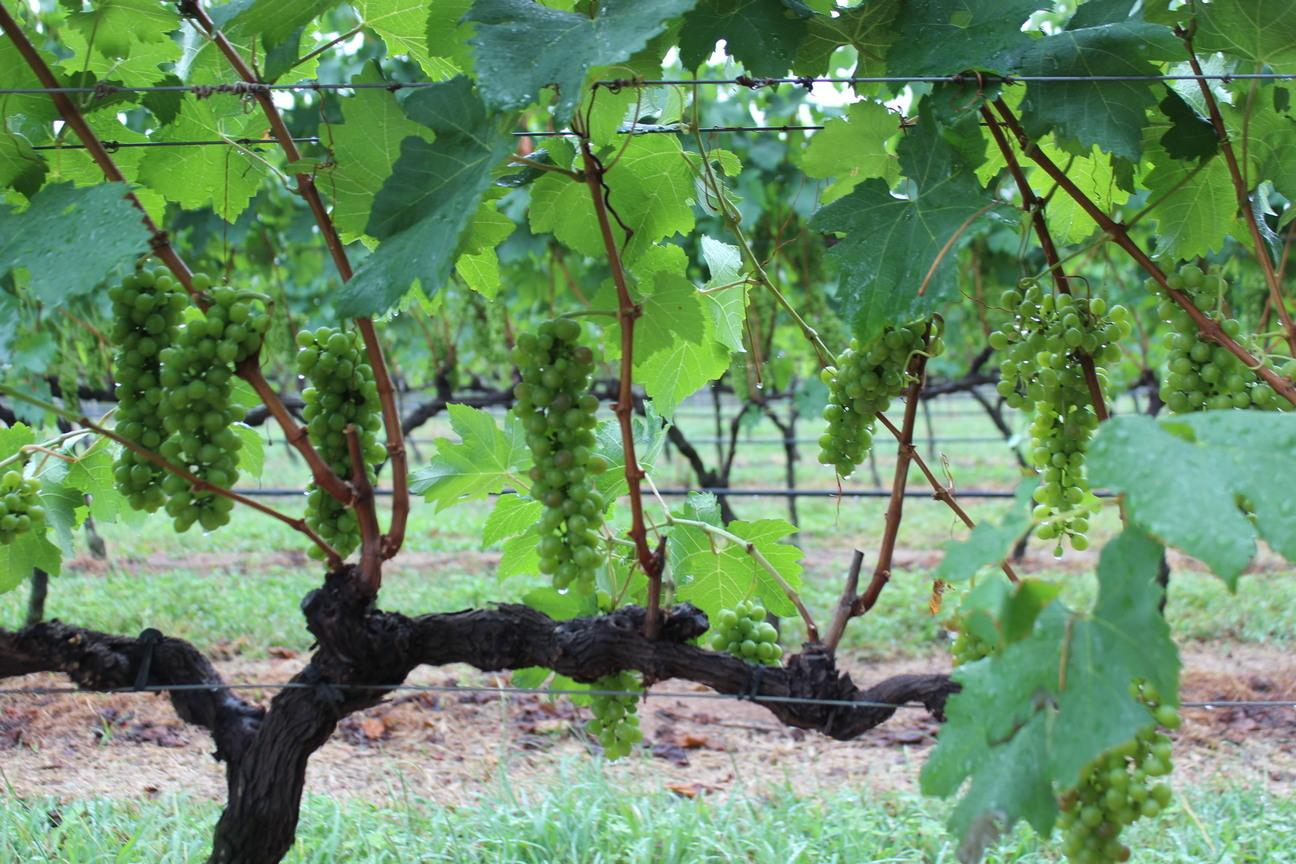leaf: (923, 530, 1177, 858), (810, 99, 995, 341), (335, 76, 511, 314), (1086, 410, 1295, 587), (467, 0, 696, 122), (0, 183, 147, 306), (321, 87, 432, 240), (410, 403, 529, 508), (671, 518, 801, 614), (886, 0, 1036, 74), (1021, 79, 1157, 159), (606, 135, 692, 260), (1142, 148, 1235, 259), (932, 481, 1035, 580), (1007, 21, 1181, 78), (801, 99, 897, 202), (138, 145, 265, 221), (679, 0, 807, 75), (635, 318, 729, 418), (351, 0, 461, 79), (1220, 86, 1295, 198), (792, 0, 902, 75), (1194, 0, 1295, 71), (1040, 141, 1127, 211), (531, 174, 604, 256), (701, 234, 747, 352), (225, 0, 338, 47), (63, 437, 122, 518), (37, 459, 87, 554), (0, 37, 56, 121), (155, 98, 262, 140), (1033, 171, 1096, 241), (0, 531, 60, 592), (480, 492, 542, 545), (0, 130, 47, 197), (593, 419, 627, 499), (630, 400, 666, 472), (523, 585, 596, 619), (498, 527, 537, 581), (231, 422, 263, 480), (0, 422, 33, 459), (351, 62, 384, 82), (37, 51, 56, 64), (1234, 143, 1238, 151), (5, 468, 12, 469), (689, 2, 690, 4)
